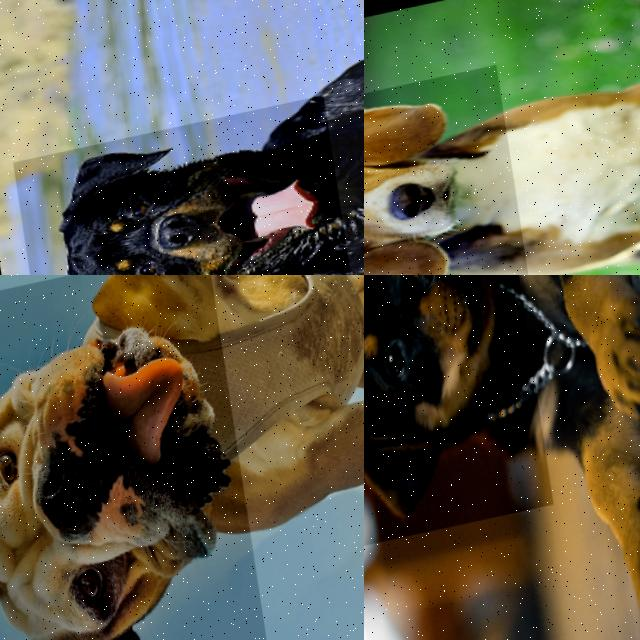beagle: (364, 65, 532, 275)
bulldog: (0, 275, 278, 640)
rottweiler: (12, 96, 356, 275), (364, 275, 556, 562)
